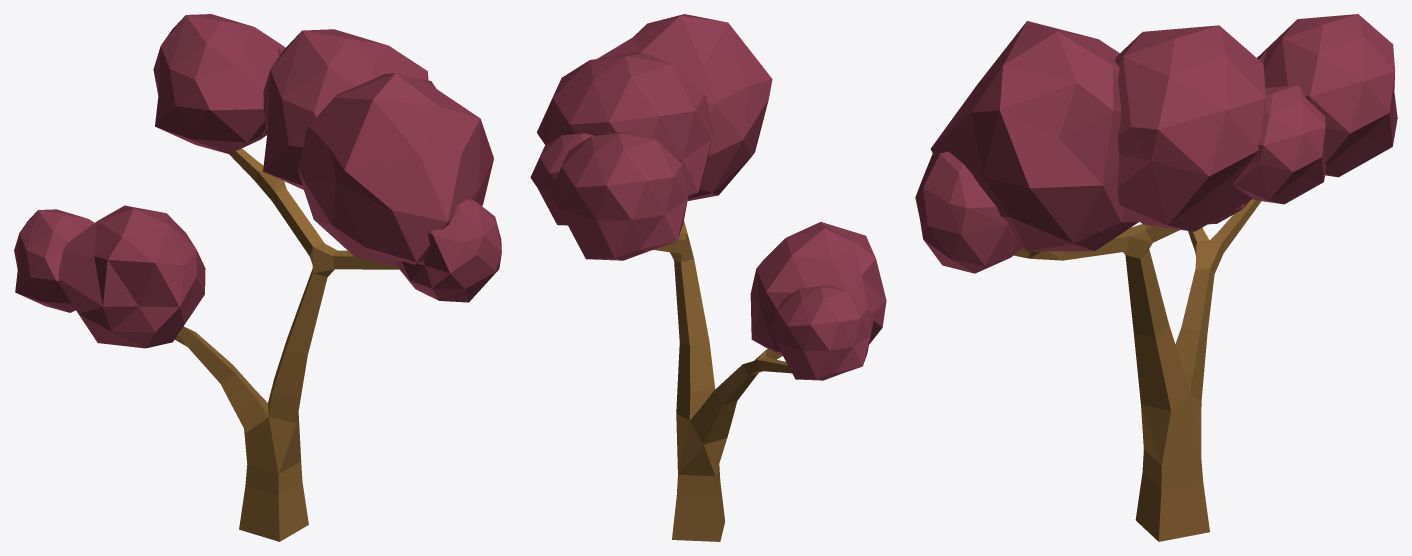
The model's file is tree1.glb.
The picture shows the model from 3 angles, left to right: view 1: azimuth 30°, elevation 25°; view 2: azimuth 150°, elevation 25°; view 3: azimuth 270°, elevation 25°; orthographic projection. The views are drawn at different scales.
Visible parts, largest first — view 1: Object_14.002; view 2: Object_14.002; view 3: Object_14.002.
Part boxes in pixels (x1=…): Object_14.002: x1=14, y1=14, x2=501, y2=541; Object_14.002: x1=530, y1=14, x2=886, y2=541; Object_14.002: x1=915, y1=14, x2=1397, y2=541.
Bounding box in the file's own units: 0.941 × 1.14 × 0.9387.
